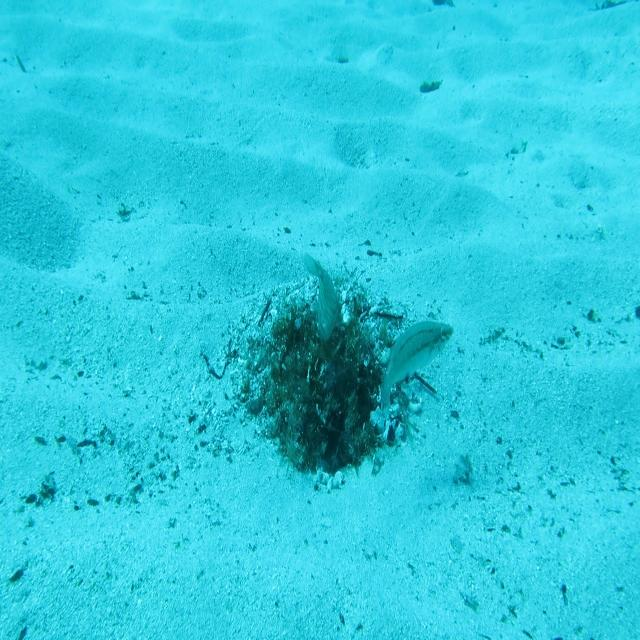NIP_CORE: (301, 250, 341, 350)
core_nest: (299, 321, 340, 372)
female: (378, 318, 455, 427)
nest: (219, 252, 434, 506)
vegetation: (419, 80, 444, 97)
